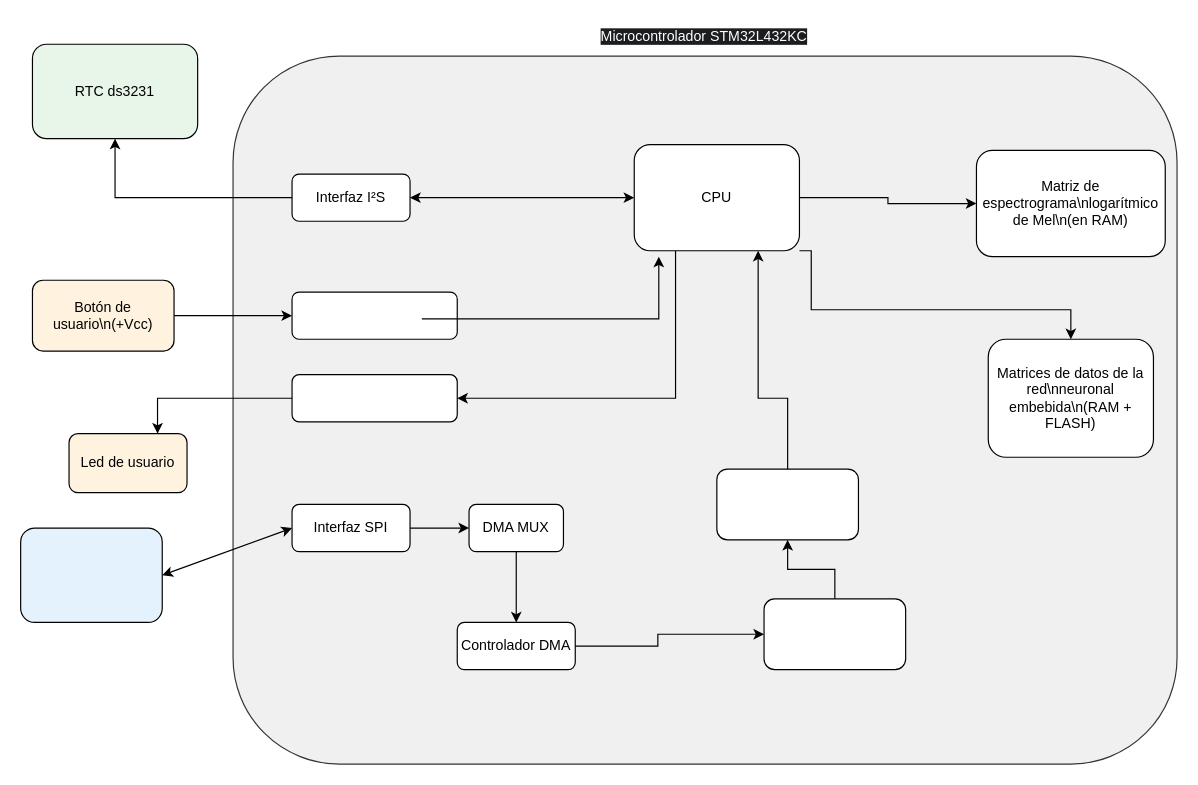
The diagram is 1198 pixels wide and 785 high, and some of its shapes have lost their labels. The shapes that lost their labels are listed below. From the top down, each one's centre as x and y in pixels, then its label:
At point (374, 315): "Interfaz de pin de entrada".
At point (374, 397): "Interfaz de pin de salida".
At point (787, 504): "Preprocesamiento de\nsegmentos de audio".
At point (90, 574): "Módulo de Tarjeta MicroSD".
At point (834, 634): "Buffer en memoria RAM".
